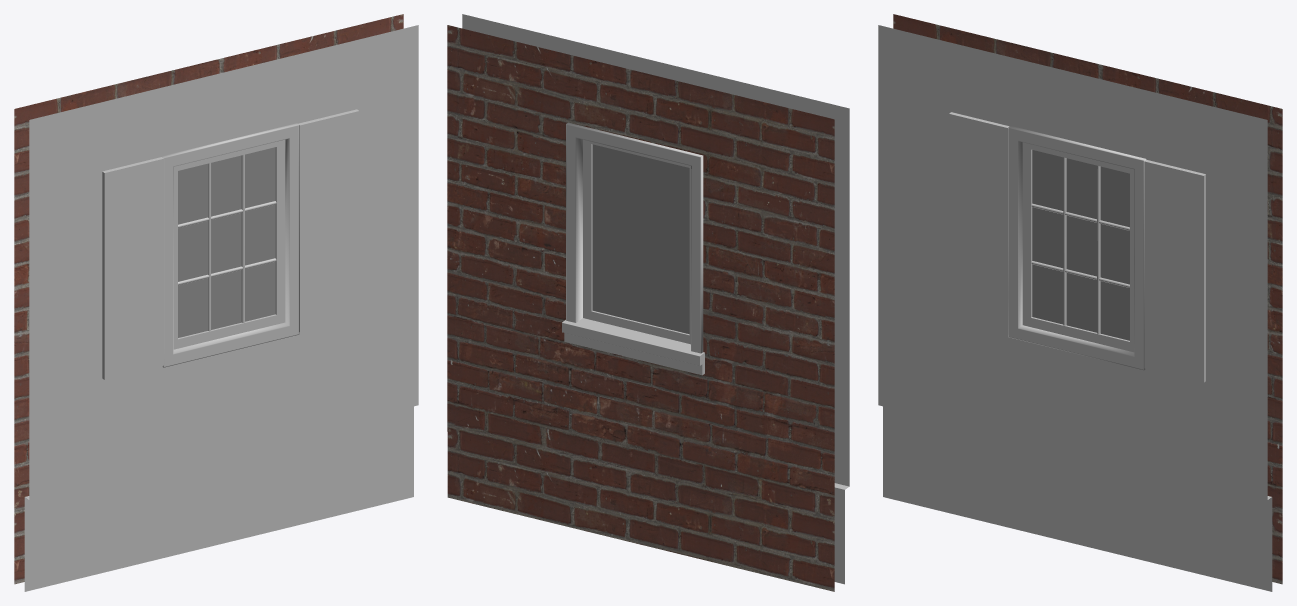
Rendered from In_WallDown_Window_Single_3x.FBX.
3 renders of one model, left to right at view 1: azimuth 30°, elevation 25°; view 2: azimuth 150°, elevation 25°; view 3: azimuth 330°, elevation 25°, orthographic.
Parts seen in each view (by area): view 1: WallDown_Window_Single_3x; view 2: WallDown_Window_Single_3x; view 3: WallDown_Window_Single_3x.
Part boxes in pixels (x1,y1,x2,y2): WallDown_Window_Single_3x: (14,14,418,591); WallDown_Window_Single_3x: (447,14,849,591); WallDown_Window_Single_3x: (878,14,1282,591).
Size of the model in its own units: 300 by 350 by 29.86.
